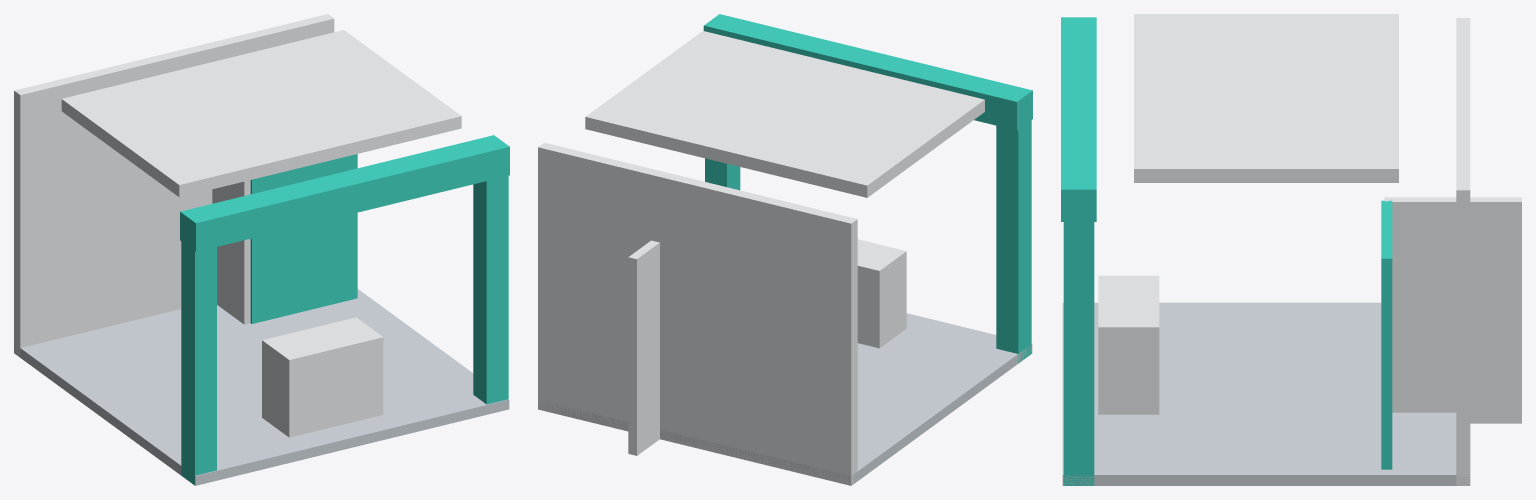
The picture shows the model from 3 angles, left to right: view 1: azimuth 30°, elevation 25°; view 2: azimuth 150°, elevation 25°; view 3: azimuth 270°, elevation 25°; orthographic projection. The views are drawn at different scales.
Visible parts, largest first — view 1: Exhibition Booth Concept; view 2: Exhibition Booth Concept; view 3: Exhibition Booth Concept.
Boxes of the visible parts, x1,y1,x2,y2 form: Exhibition Booth Concept: (14,14,509,485); Exhibition Booth Concept: (538,14,1032,485); Exhibition Booth Concept: (1061,14,1521,485).
Bounding box in the file's own units: 4 × 3.34 × 4.52.
